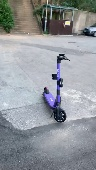beam: (41, 51, 74, 122)
